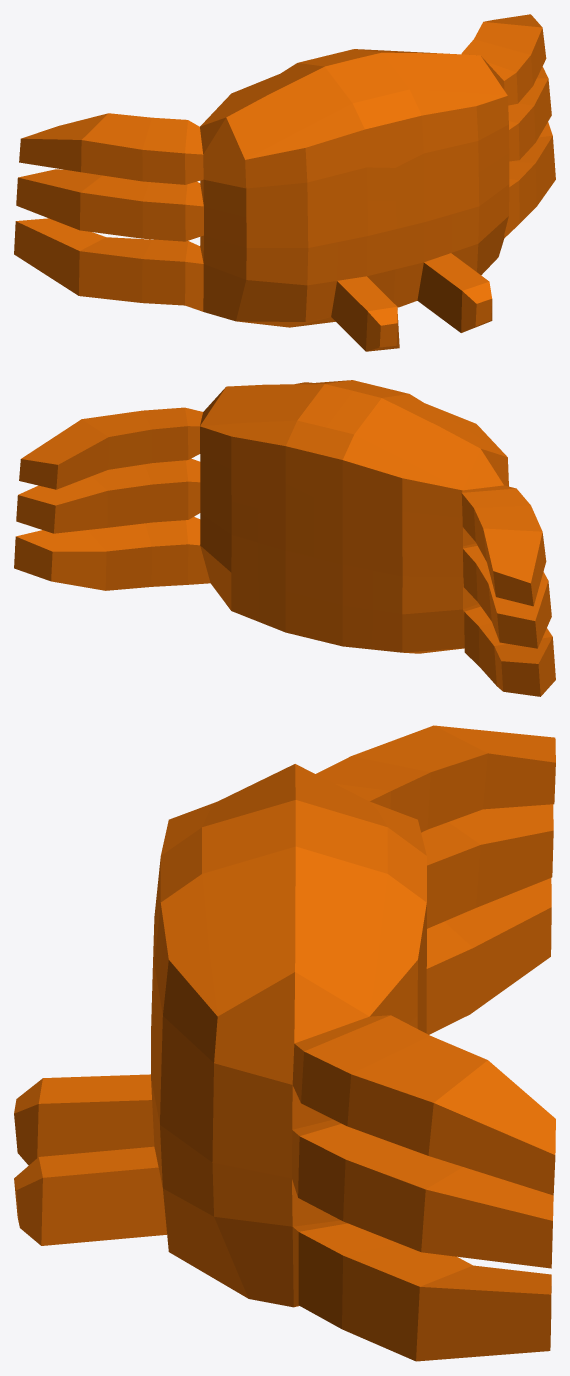
File: crab.fbx
3 renders of one model, top to bottom at view 1: azimuth 30°, elevation 25°; view 2: azimuth 150°, elevation 25°; view 3: azimuth 270°, elevation 25°, orthographic. The views are drawn at different scales.
Visible parts, largest first — view 1: Cube; view 2: Cube; view 3: Cube.
Boxes of the visible parts, x1,y1,x2,y2 form: Cube: (14,14,555,351); Cube: (14,380,555,696); Cube: (14,725,555,1361).
Size of the model in its own units: 18.35 by 8.02 by 9.75.
